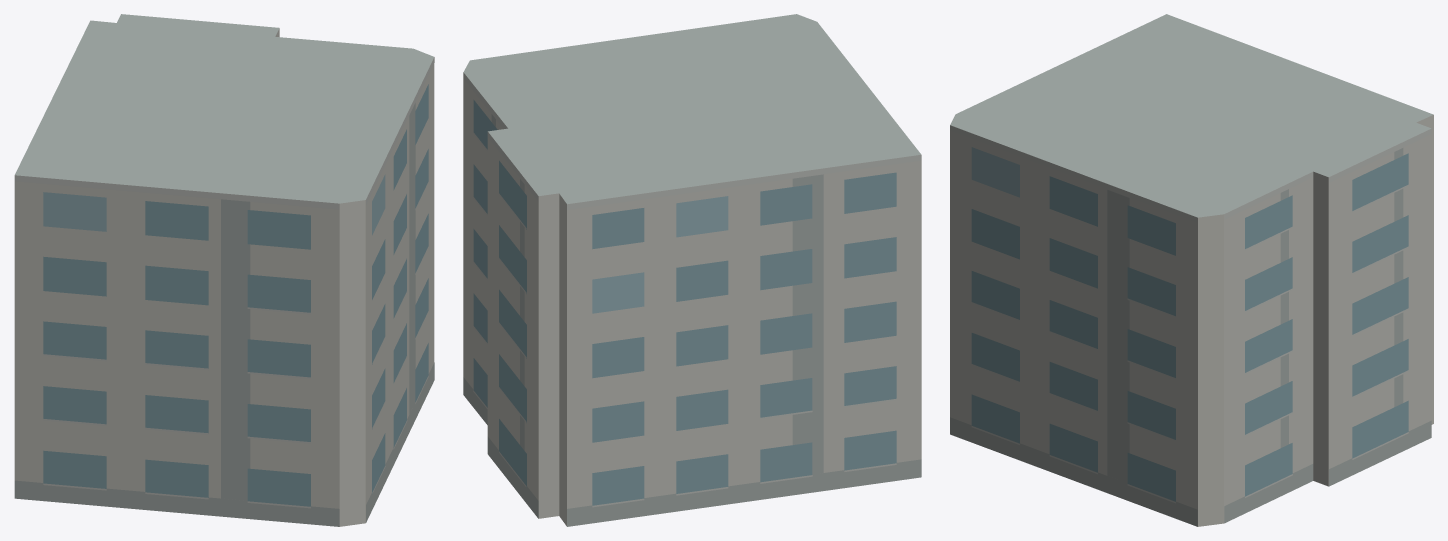
The model's file is survey-upis-32887853.glb.
3 renders of one model, left to right at view 1: azimuth 30°, elevation 25°; view 2: azimuth 150°, elevation 25°; view 3: azimuth 270°, elevation 25°, orthographic. The views are drawn at different scales.
Visible parts, largest first — view 1: survey-upis-32887853.tmp; view 2: survey-upis-32887853.tmp; view 3: survey-upis-32887853.tmp.
Part boxes in pixels (x1,y1,x2,y2): survey-upis-32887853.tmp: (14,14,434,526); survey-upis-32887853.tmp: (463,14,921,526); survey-upis-32887853.tmp: (950,14,1433,526).
Size of the model in its own units: 18.45 by 13.06 by 18.52.
